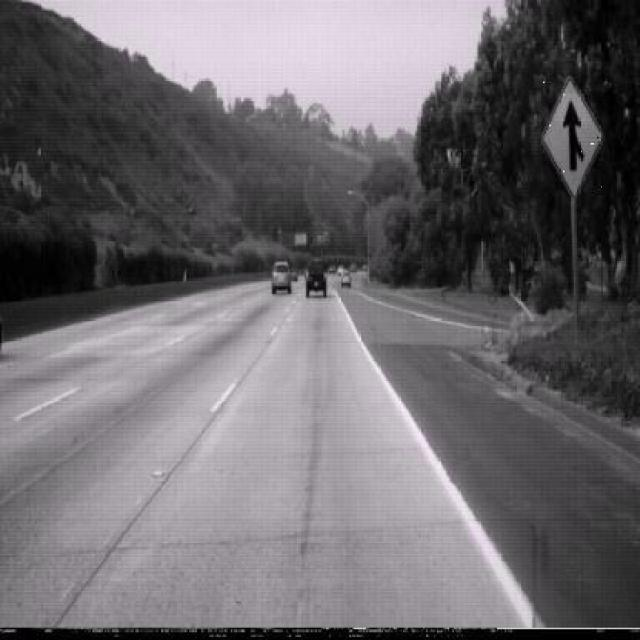merge: (541, 77, 604, 203)
